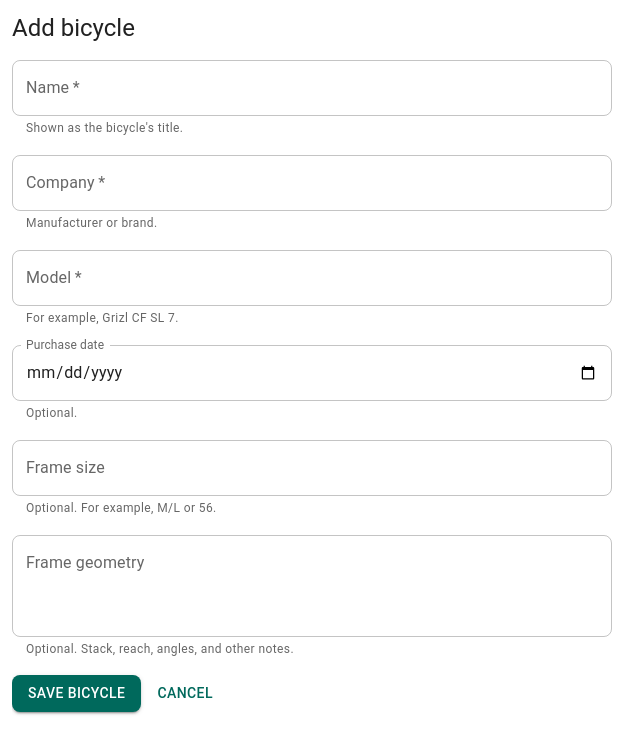
Test: AddBicycle › explains a model rejected as invalidFormat
Click the button "Save bicycle" at (77, 694), box [12,676,141,712]
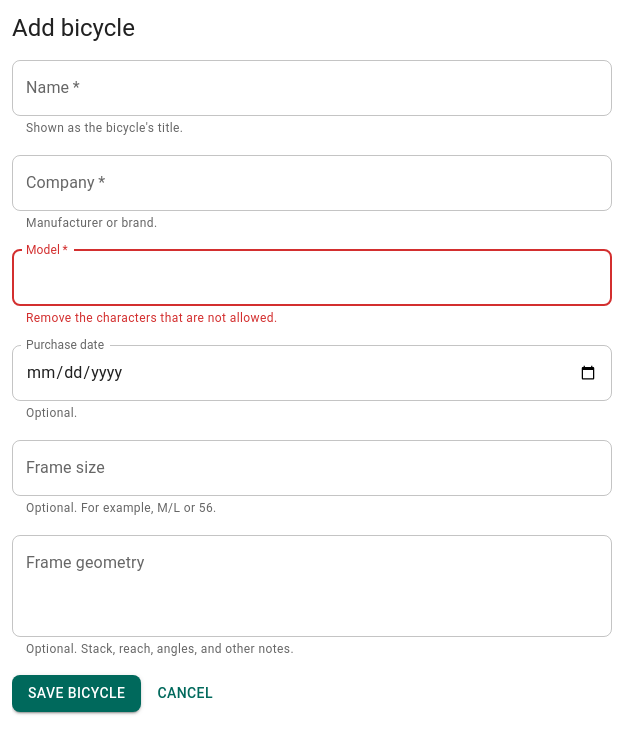
Check: the text "Remove the characters that are not allowed." is shown, box [26,311,278,325]
